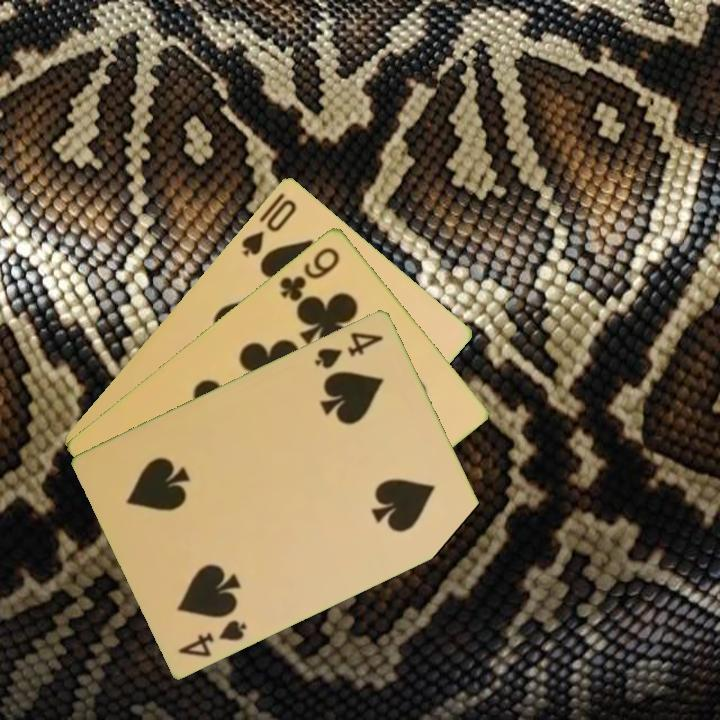10s: (237, 195, 300, 259)
4s: (175, 615, 250, 660), (311, 328, 387, 372)
9c: (276, 243, 343, 304)
